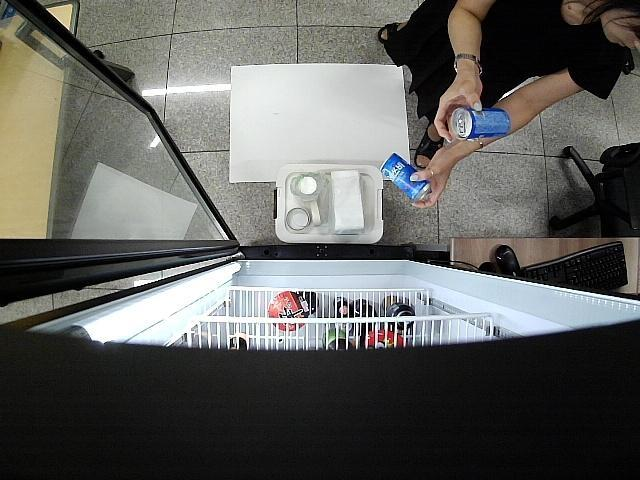15_letsbe: (380, 152, 432, 204), (446, 108, 511, 142)
